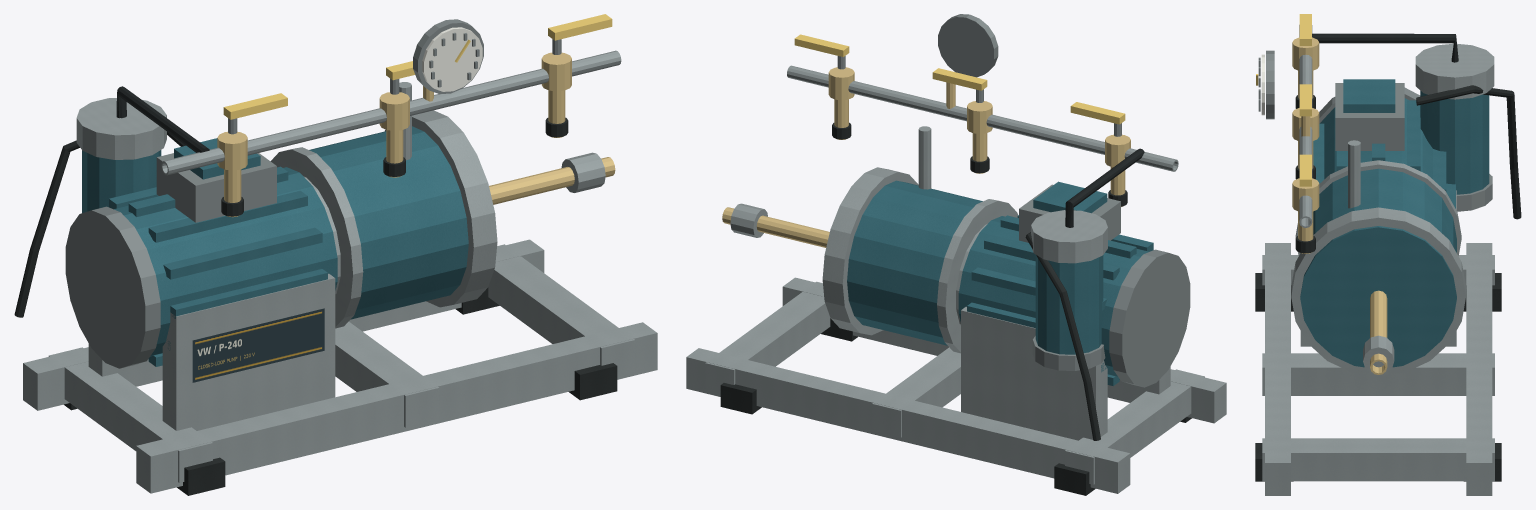
File: PROJECT_Z_GIK01_Pump_Manifold.glb
The picture shows the model from 3 angles, left to right: view 1: azimuth 30°, elevation 25°; view 2: azimuth 150°, elevation 25°; view 3: azimuth 270°, elevation 25°; orthographic projection. The views are drawn at different scales.
Visible parts, largest first — view 1: SM_Pump_Skid_Channels, SM_Pump_Volute_Casing, SM_Pump_Skid_CrossBraces, SM_Pump_Motor_SteelCradle, SM_Pump_240V_ElectricMotor_Shell, SM_Pump_240V_Motor_Endcaps__MAT01, SM_Pump_Volute_Flange_Rings, SM_Pump_240V_Motor_CoolingFins, SM_Manifold_Main_Header_32mm, SM_Pump_BrandPlate, SM_Pump_InlineFilter_Canister__MAT03, SM_Pump_240V_TerminalBox__MAT01 (+14 smaller); view 2: SM_Pump_Skid_Channels, SM_Pump_Volute_Casing, SM_Pump_Motor_SteelCradle, SM_Pump_Skid_CrossBraces, SM_Pump_240V_Motor_Endcaps__MAT01, SM_Pump_Volute_Flange_Rings, SM_Pump_240V_ElectricMotor_Shell, SM_Pump_InlineFilter_Canister__MAT01, SM_Manifold_Main_Header_32mm, SM_Pump_240V_Motor_CoolingFins, SM_Pump_InlineFilter_Canister__MAT03, SM_Pump_PressureGauge_Housing (+15 smaller); view 3: SM_Pump_Volute_Casing, SM_Pump_Skid_CrossBraces, SM_Pump_Skid_Channels, SM_Pump_Volute_Flange_Rings, SM_Pump_InlineFilter_Canister__MAT01, SM_Pump_InlineFilter_Canister__MAT03, SM_Pump_240V_TerminalBox__MAT01, SM_Pump_240V_Motor_CoolingFins, SM_Pump_Power_Cable, SM_Pump_240V_ElectricMotor_Shell, SM_Pump_240V_TerminalBox__MAT02, SM_Manifold_Tee_Fittings (+14 smaller).
Part boxes in pixels (x1,y1,x2,y2): SM_Pump_Skid_Channels: [23, 239, 657, 493]; SM_Pump_Volute_Casing: [309, 126, 468, 319]; SM_Pump_Skid_CrossBraces: [48, 244, 635, 482]; SM_Pump_Motor_SteelCradle: [88, 273, 335, 430]; SM_Pump_240V_ElectricMotor_Shell: [114, 167, 337, 356]; SM_Pump_240V_Motor_Endcaps__MAT01: [65, 206, 160, 368]; SM_Pump_Volute_Flange_Rings: [270, 110, 497, 328]; SM_Pump_240V_Motor_CoolingFins: [109, 166, 327, 366]; SM_Manifold_Main_Header_32mm: [161, 50, 621, 175]; SM_Pump_BrandPlate: [192, 308, 324, 382]; SM_Pump_InlineFilter_Canister__MAT03: [76, 98, 166, 159]; SM_Pump_240V_TerminalBox__MAT01: [156, 153, 276, 222]; SM_Pump_Skid_Channels: [686, 277, 1226, 493]; SM_Pump_Volute_Casing: [847, 180, 982, 345]; SM_Pump_Motor_SteelCradle: [961, 306, 1170, 440]; SM_Pump_Skid_CrossBraces: [705, 281, 1204, 484]; SM_Pump_240V_Motor_Endcaps__MAT01: [1109, 249, 1190, 387]; SM_Pump_Volute_Flange_Rings: [822, 167, 1018, 353]; SM_Pump_240V_ElectricMotor_Shell: [958, 216, 1149, 376]; SM_Pump_InlineFilter_Canister__MAT01: [1035, 255, 1103, 354]; SM_Manifold_Main_Header_32mm: [787, 65, 1178, 171]; SM_Pump_240V_Motor_CoolingFins: [967, 215, 1153, 385]; SM_Pump_InlineFilter_Canister__MAT03: [1031, 210, 1107, 263]; SM_Pump_PressureGauge_Housing: [938, 14, 998, 77]; SM_Pump_Volute_Casing: [1300, 168, 1456, 367]; SM_Pump_Skid_CrossBraces: [1262, 255, 1494, 481]; SM_Pump_Skid_Channels: [1265, 243, 1492, 495]; SM_Pump_Volute_Flange_Rings: [1291, 160, 1465, 376]; SM_Pump_InlineFilter_Canister__MAT01: [1420, 91, 1489, 194]; SM_Pump_InlineFilter_Canister__MAT03: [1415, 43, 1494, 99]; SM_Pump_240V_TerminalBox__MAT01: [1335, 83, 1404, 150]; SM_Pump_240V_Motor_CoolingFins: [1313, 100, 1455, 208]; SM_Pump_Power_Cable: [1416, 85, 1521, 219]; SM_Pump_240V_ElectricMotor_Shell: [1320, 98, 1432, 179]; SM_Pump_240V_TerminalBox__MAT02: [1343, 79, 1395, 112]; SM_Manifold_Tee_Fittings: [1292, 37, 1319, 211].
Bounding box in the file's own units: 1.55 × 1.14 × 0.7667.
9 materials, 5 textured.
